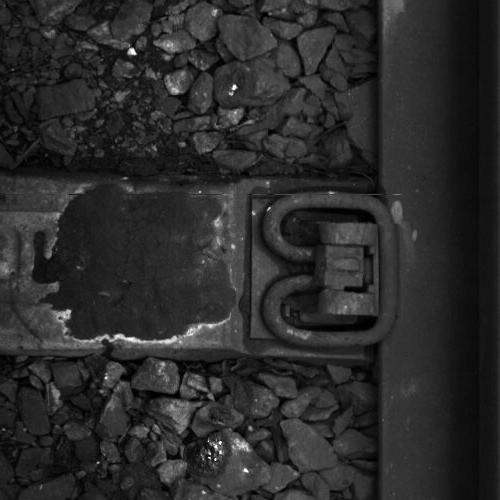ars_mono: (294, 214, 379, 325)
spring: (249, 189, 409, 352)
tie_concr: (1, 178, 373, 349)
